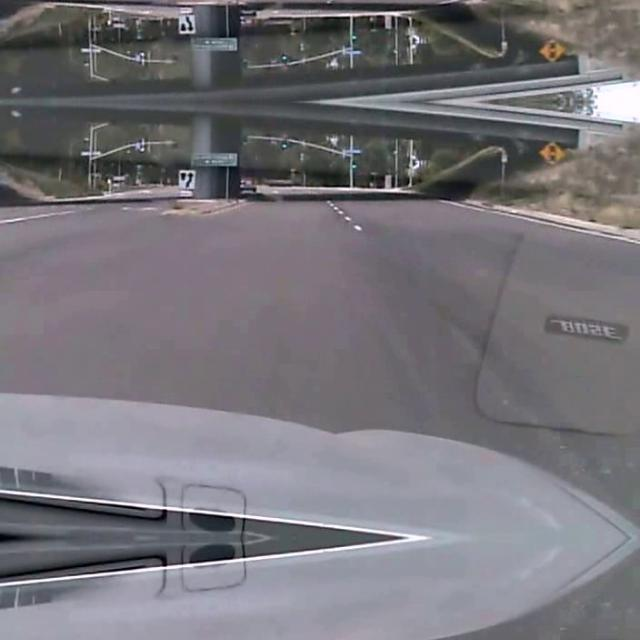signalAhead: (536, 138, 566, 164), (536, 38, 566, 64)
